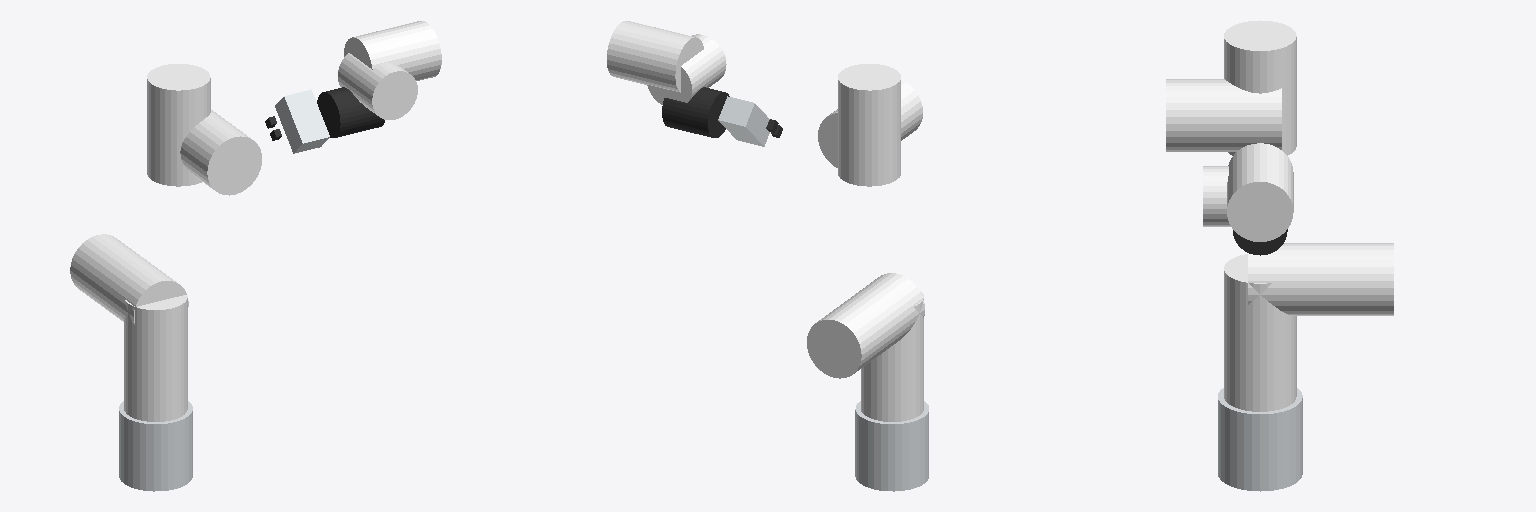
robot.urdf — panda:
<?xml version="1.0"?>
<!--
  Franka Emika Panda, for Gazebo Harmonic.

  Provenance and intent
  ~~~~~~~~~~~~~~~~~~~~
  The kinematics here are taken from the MuJoCo model this project already
  validates, `mujoco/models/franka_emika_panda/panda.xml`, so the Gazebo robot
  has the same morphology as the reference robot rather than an approximation of
  it. The MJCF's body offsets and orientations map onto URDF as:

      MJCF body pos/quat        ->  URDF joint origin xyz/rpy
      link0  ""                 ->  panda_link0 (base)
      link1  0 0 0.333          ->  joint1
      link2  quat 1 -1 0 0       ->  joint2   (rotation of -90 deg about X)
      link3  0 -0.316 0         ->  joint3
      link4  0.0825 0 0         ->  joint4
      link5  -0.0825 0.384 0    ->  joint5
      link6  ""                 ->  joint6
      link7  0.088 0 0          ->  joint7
      hand   0 0 0.107          ->  hand_joint  (rpy 0 0 -pi/4)

  Geometry is primitive boxes and cylinders rather than the STL/OBJ meshes the
  MuJoCo model references. That is a deliberate, recorded trade: the meshes are
  large binary assets, Gazebo collision meshes and MuJoCo collision meshes
  differ subtly anyway, and a primitive box per link is both reproducible and
  reviewable. Every collision envelope below is a bounding volume for its link,
  not the link's exact hull, a difference that is called out rather than
  hidden, because collision response is one of the things a cross-simulator
  comparison can legitimately disagree about.

  Joint limits and inertias are copied from the MJCF so the two robots respond
  comparably under the same commands.
-->
<robot name="panda">

  <material name="off_white"><color rgba="0.90 0.92 0.93 1"/></material>
  <material name="white"><color rgba="1 1 1 1"/></material>
  <material name="black"><color rgba="0.25 0.25 0.25 1"/></material>

  <!-- ============================ base ============================ -->
  <link name="panda_link0">
    <inertial>
      <origin xyz="-0.041018 -0.00014 0.049974" rpy="0 0 0"/>
            <mass value="0.629769"/>
      <inertia ixx="0.00315" ixy="8.2904e-07" ixz="0.00015"
               iyy="0.00388" iyz="8.2299e-06" izz="0.004285"/>
</inertial>
    <collision>
      <origin xyz="0 0 0.05" rpy="0 0 0"/>
      <geometry><cylinder radius="0.07" length="0.14"/></geometry>
    </collision>
    <visual>
      <origin xyz="0 0 0.05" rpy="0 0 0"/>
      <geometry><cylinder radius="0.07" length="0.14"/></geometry>
      <material name="off_white"/>
    </visual>
  </link>

  <!-- =========================== joint 1 ========================== -->
  <joint name="joint1" type="revolute">
    <parent link="panda_link0"/>
    <child link="panda_link1"/>
    <origin xyz="0 0 0.333" rpy="0 0 0"/>
    <axis xyz="0 0 1"/>
    <limit lower="-2.8973" upper="2.8973" effort="87" velocity="2.175"/>
    <dynamics damping="1.0" friction="0.0"/>
  </joint>
  <link name="panda_link1">
    <inertial>
      <origin xyz="0.003875 0.002081 -0.04762" rpy="0 0 0"/>
            <mass value="4.970684"/>
      <inertia ixx="0.70337" ixy="-0.000139" ixz="0.006772"
               iyy="0.70661" iyz="0.019169" izz="0.009117"/>
</inertial>
    <collision>
      <origin xyz="0 0 -0.1" rpy="0 0 0"/>
      <geometry><cylinder radius="0.06" length="0.24"/></geometry>
    </collision>
    <visual>
      <origin xyz="0 0 -0.1" rpy="0 0 0"/>
      <geometry><cylinder radius="0.06" length="0.24"/></geometry>
      <material name="white"/>
    </visual>
  </link>

  <!-- =========================== joint 2 ========================== -->
  <joint name="joint2" type="revolute">
    <parent link="panda_link1"/>
    <child link="panda_link2"/>
    <origin xyz="0 0 0" rpy="-1.5707963 0 0"/>
    <axis xyz="0 0 1"/>
    <limit lower="-1.7628" upper="1.7628" effort="87" velocity="2.175"/>
    <dynamics damping="1.0" friction="0.0"/>
  </joint>
  <link name="panda_link2">
    <inertial>
      <origin xyz="-0.003141 -0.02872 0.003495" rpy="0 0 0"/>
            <mass value="0.646926"/>
      <inertia ixx="0.007962" ixy="-0.003925" ixz="0.010254"
               iyy="0.02811" iyz="0.000704" izz="0.025995"/>
</inertial>
    <collision>
      <origin xyz="0 0 0.1" rpy="0 0 0"/>
      <geometry><cylinder radius="0.06" length="0.24"/></geometry>
    </collision>
    <visual>
      <origin xyz="0 0 0.1" rpy="0 0 0"/>
      <geometry><cylinder radius="0.06" length="0.24"/></geometry>
      <material name="white"/>
    </visual>
  </link>

  <!-- =========================== joint 3 ========================== -->
  <joint name="joint3" type="revolute">
    <parent link="panda_link2"/>
    <child link="panda_link3"/>
    <origin xyz="0 -0.316 0" rpy="1.5707963 0 0"/>
    <axis xyz="0 0 1"/>
    <limit lower="-2.8973" upper="2.8973" effort="87" velocity="2.175"/>
    <dynamics damping="1.0" friction="0.0"/>
  </joint>
  <link name="panda_link3">
    <inertial>
      <origin xyz="0.027518 0.039252 -0.066502" rpy="0 0 0"/>
            <mass value="3.228604"/>
      <inertia ixx="0.037242" ixy="-0.004761" ixz="-0.011396"
               iyy="0.036155" iyz="-0.012805" izz="0.01083"/>
</inertial>
    <collision>
      <origin xyz="0.05 0 0.05" rpy="0 0 0"/>
      <geometry><cylinder radius="0.06" length="0.2"/></geometry>
    </collision>
    <visual>
      <origin xyz="0.05 0 0.05" rpy="0 0 0"/>
      <geometry><cylinder radius="0.06" length="0.2"/></geometry>
      <material name="white"/>
    </visual>
  </link>

  <!-- =========================== joint 4 ========================== -->
  <joint name="joint4" type="revolute">
    <parent link="panda_link3"/>
    <child link="panda_link4"/>
    <origin xyz="0.0825 0 0" rpy="1.5707963 0 0"/>
    <axis xyz="0 0 1"/>
    <limit lower="-3.0718" upper="-0.0698" effort="87" velocity="2.175"/>
    <dynamics damping="1.0" friction="0.0"/>
  </joint>
  <link name="panda_link4">
    <inertial>
      <origin xyz="-0.05317 0.104419 0.027454" rpy="0 0 0"/>
            <mass value="3.587895"/>
      <inertia ixx="0.025853" ixy="0.007796" ixz="-0.001332"
               iyy="0.019552" iyz="0.008641" izz="0.028323"/>
</inertial>
    <collision>
      <origin xyz="-0.02 0 0.06" rpy="0 0 0"/>
      <geometry><cylinder radius="0.06" length="0.19"/></geometry>
    </collision>
    <visual>
      <origin xyz="-0.02 0 0.06" rpy="0 0 0"/>
      <geometry><cylinder radius="0.06" length="0.19"/></geometry>
      <material name="white"/>
    </visual>
  </link>

  <!-- =========================== joint 5 ========================== -->
  <joint name="joint5" type="revolute">
    <parent link="panda_link4"/>
    <child link="panda_link5"/>
    <origin xyz="-0.0825 0.384 0" rpy="-1.5707963 0 0"/>
    <axis xyz="0 0 1"/>
    <limit lower="-2.8973" upper="2.8973" effort="12" velocity="2.61"/>
    <dynamics damping="1.0" friction="0.0"/>
  </joint>
  <link name="panda_link5">
    <inertial>
      <origin xyz="-0.011953 0.041065 -0.038437" rpy="0 0 0"/>
            <mass value="1.225946"/>
      <inertia ixx="0.035549" ixy="-0.002117" ixz="-0.004037"
               iyy="0.029474" iyz="0.000229" izz="0.008627"/>
</inertial>
    <collision>
      <origin xyz="0 0 0.05" rpy="0 0 0"/>
      <geometry><cylinder radius="0.055" length="0.15"/></geometry>
    </collision>
    <visual>
      <origin xyz="0 0 0.05" rpy="0 0 0"/>
      <geometry><cylinder radius="0.055" length="0.15"/></geometry>
      <material name="white"/>
    </visual>
  </link>

  <!-- =========================== joint 6 ========================== -->
  <joint name="joint6" type="revolute">
    <parent link="panda_link5"/>
    <child link="panda_link6"/>
    <origin xyz="0 0 0" rpy="1.5707963 0 0"/>
    <axis xyz="0 0 1"/>
    <limit lower="-0.0175" upper="3.7525" effort="12" velocity="2.61"/>
    <dynamics damping="1.0" friction="0.0"/>
  </joint>
  <link name="panda_link6">
    <inertial>
      <origin xyz="0.060149 -0.014117 -0.010517" rpy="0 0 0"/>
            <mass value="1.666555"/>
      <inertia ixx="0.001964" ixy="0.000109" ixz="-0.001158"
               iyy="0.004354" iyz="0.000341" izz="0.005433"/>
</inertial>
    <collision>
      <origin xyz="0.03 0 0.03" rpy="0 0 0"/>
      <geometry><cylinder radius="0.05" length="0.13"/></geometry>
    </collision>
    <visual>
      <origin xyz="0.03 0 0.03" rpy="0 0 0"/>
      <geometry><cylinder radius="0.05" length="0.13"/></geometry>
      <material name="white"/>
    </visual>
  </link>

  <!-- =========================== joint 7 ========================== -->
  <joint name="joint7" type="revolute">
    <parent link="panda_link6"/>
    <child link="panda_link7"/>
    <origin xyz="0.088 0 0" rpy="1.5707963 0 0"/>
    <axis xyz="0 0 1"/>
    <limit lower="-2.8973" upper="2.8973" effort="12" velocity="2.61"/>
    <dynamics damping="1.0" friction="0.0"/>
  </joint>
  <link name="panda_link7">
    <inertial>
      <origin xyz="0.010517 -0.004252 0.061597" rpy="0 0 0"/>
            <mass value="0.735522"/>
      <inertia ixx="0.012516" ixy="-0.000428" ixz="-0.001196"
               iyy="0.010027" iyz="-0.000741" izz="0.004815"/>
</inertial>
    <collision>
      <origin xyz="0 0 0.04" rpy="0 0 0"/>
      <geometry><cylinder radius="0.045" length="0.1"/></geometry>
    </collision>
    <visual>
      <origin xyz="0 0 0.04" rpy="0 0 0"/>
      <geometry><cylinder radius="0.045" length="0.1"/></geometry>
      <material name="black"/>
    </visual>
  </link>

  <!-- ============================= hand ============================ -->
  <joint name="hand_joint" type="fixed">
    <parent link="panda_link7"/>
    <child link="panda_hand"/>
    <origin xyz="0 0 0.107" rpy="0 0 -0.7853982"/>
  </joint>
  <link name="panda_hand">
    <inertial>
      <origin xyz="-0.01 0 0.03" rpy="0 0 0"/>
            <mass value="0.73"/>
      <inertia ixx="0.001" ixy="0" ixz="0"
               iyy="0.0025" iyz="0" izz="0.0017"/>
</inertial>
    <collision>
      <origin xyz="0 0 0.04" rpy="0 0 0"/>
      <geometry><box size="0.05 0.1 0.06"/></geometry>
    </collision>
    <visual>
      <origin xyz="0 0 0.04" rpy="0 0 0"/>
      <geometry><box size="0.05 0.1 0.06"/></geometry>
      <material name="off_white"/>
    </visual>
  </link>

  <!-- Parallel jaw: two prismatic fingers, mirroring the MJCF's slide joints
       with range 0..0.04 along +Y.

       Geometry is measured from the compiled MJCF, not drawn by eye, and is
       expressed so the gripper is *symmetric by construction*. Each finger
       joint's origin sits at the pad's inner face
       (y = +/-0.0055, z = 0.0445): closing the joint to q narrows the pad
       separation by exactly 2q, so closed separation + commanded aperture is
       the true pad separation with no hidden asymmetry. The pads themselves sit
       0.0584 along the finger bodies to land their centres at hand-frame
       z = 0.0445 + 0.0584 = 0.1029, which is 0.5 mm behind the injected "tcp"
       site at 0.1034, and each collision box is 0.02 x 0.015 x 0.015, giving a
       closed separation of 2 * 0.0055 = 0.011 m, the value RobotConfig derives
       from gripper_closed_separation_m.

       The pad half-height is 6.5 mm here, NOT RobotConfig's measured 8.5 mm,
       and that is a deliberate, measured Gazebo-only difference, driven by
       contact evidence rather than by preference.

       The contact sensors say what is actually touching. Over a full episode
       the cube was in contact with the table on all 149 ticks and with a finger
       on none, while both pads were in contact with the TABLE on every tick:
       the jaws were closing on the tabletop and missing the object entirely.
       That also explains the finger residual that no gain change removed, and the
       pads were pressed against the table and physically could not close.

       The clearance that follows from the shared task's aim is
       ``object_half + pad_offset_from_tcp - pad_half_height``. The arm settles
       about 1.4 mm below the commanded tool height under load, and ODE reports
       contact at a clearance of 0.1 mm, so the clearance has to exceed the
       measured sag with room to spare. At 6.5 mm it is 2.0 mm nominally and
       0.6 mm even at the worst observed sag. 13 mm tall pads still span 13 mm of
       a 16 mm cube, gripping it about its middle.

       An earlier revision used 7.5 mm (1.0 mm of nominal clearance) on the
       reasoning that the aim alone should suffice. The contact evidence says
       it does not, and the contacts are what the number is now derived from. The task aims
       the tool centre point at the object's centre, so the pads' lower edge
       lands at object_centre + 0.0005 - pad_half_height. With an 8 mm half-object
       resting on the table, an 8.5 mm pad puts the lower edge 0.5 mm *below* the
       tabletop, and the live trace measured the arm settling 0.4 mm low on top
       of that, so the lowest the pads ever reached was +0.03 mm. Thirty
       microns of clearance is inside ODE's contact margin: the pads graze the
       table, the fingers jam against it (measured: 3.2 mm of residual with about
       7 N commanded and no motion at all), and the lift rakes the cube out of
       the jaws instead of carrying it. MuJoCo's solver tolerates the same
       overlap, which is why the shared task allows it: its own feasibility test
       is pad_bottom >= table_z - 0.001.
       At 7.5 mm the pads clear the table by 1.03 mm and still span 15 mm of a
       16 mm cube's height, so the grip loses only the top millimetre.

       The previous geometry put the pad centre at z = 0.0834 with a 50 mm tall
       box and made the two jaws asymmetric (inner faces at y = +0.0025 and
       -0.0125, so the midpoint sat 5 mm off the hand axis and prismatic travel
       moved each face twice as far as the jaw's own model claims). Both are
       corrected here; tests/unit/test_gazebo_backend.py pins the corrected
       values against the config so they cannot drift apart again. -->
  <joint name="left_finger" type="prismatic">
    <parent link="panda_hand"/>
    <child link="panda_left_finger"/>
    <origin xyz="0 0.0055 0.0445" rpy="0 0 0"/>
    <axis xyz="0 1 0"/>
    <limit lower="0.0" upper="0.04" effort="100" velocity="0.2"/>
    <dynamics damping="1.0"/>
  </joint>
  <link name="panda_left_finger">
    <inertial>
      <origin xyz="0 0.0075 0.0584" rpy="0 0 0"/>
            <mass value="0.015"/>
      <inertia ixx="1.559e-06" ixy="0" ixz="0"
               iyy="1.336e-06" iyz="0" izz="9.543e-07"/>
</inertial>
    <collision>
      <origin xyz="0 0.0075 0.0584" rpy="0 0 0"/>
      <geometry><box size="0.02 0.015 0.013"/></geometry>
    </collision>
    <visual>
      <origin xyz="0 0.0075 0.0584" rpy="0 0 0"/>
      <geometry><box size="0.02 0.015 0.013"/></geometry>
      <material name="black"/>
    </visual>
  </link>

  <joint name="right_finger" type="prismatic">
    <parent link="panda_hand"/>
    <child link="panda_right_finger"/>
    <origin xyz="0 -0.0055 0.0445" rpy="0 0 0"/>
    <axis xyz="0 -1 0"/>
    <limit lower="0.0" upper="0.04" effort="100" velocity="0.2"/>
    <dynamics damping="1.0"/>
  </joint>
  <link name="panda_right_finger">
    <inertial>
      <origin xyz="0 -0.0075 0.0584" rpy="0 0 0"/>
            <mass value="0.015"/>
      <inertia ixx="1.559e-06" ixy="0" ixz="0"
               iyy="1.336e-06" iyz="0" izz="9.543e-07"/>
</inertial>
    <collision>
      <origin xyz="0 -0.0075 0.0584" rpy="0 0 0"/>
      <geometry><box size="0.02 0.015 0.013"/></geometry>
    </collision>
    <visual>
      <origin xyz="0 -0.0075 0.0584" rpy="0 0 0"/>
      <geometry><box size="0.02 0.015 0.013"/></geometry>
      <material name="black"/>
    </visual>
  </link>

  <!--
    Gazebo systems. The position controller must be attached to a *model*
    entity: placed in the world it refuses to initialise with "should be
    attached to a model entity". Attaching it here is also what makes the
    controller travel with the robot if the world ever includes it by name.

    Joint names are ROBOT CI's own (joint1..joint7), so the control path needs
    no name translation.
  -->


</robot>

--- Render facts (derived) ---
3 views of the same robot in one strip: view 1: azimuth 30°, elevation 25°; view 2: azimuth 150°, elevation 25°; view 3: azimuth 270°, elevation 25° (orthographic).
Robot: panda — 11 links, 10 joints (7 revolute, 2 prismatic, 1 fixed); root link panda_link0; default pose: joints at zero except 1 at the middle of their limits (joint4 = -1.57).
Visible links, largest first — view 1: panda_link1, panda_link3, panda_link2, panda_link0, panda_link4, panda_link5, panda_link6, panda_hand, panda_link7; view 2: panda_link3, panda_link2, panda_link0, panda_link1, panda_link5, panda_link7, panda_link6, panda_link4, panda_hand; view 3: panda_link2, panda_link1, panda_link4, panda_link0, panda_link3, panda_link5, panda_link6, panda_link7.
Boxes of the visible links, left/top/right/bottom form: panda_link1: left=124, top=295, right=187, bottom=421; panda_link3: left=147, top=64, right=210, bottom=186; panda_link2: left=70, top=234, right=188, bottom=324; panda_link0: left=119, top=401, right=192, bottom=491; panda_link4: left=180, top=110, right=261, bottom=195; panda_link5: left=344, top=21, right=441, bottom=80; panda_link6: left=338, top=53, right=417, bottom=119; panda_hand: left=275, top=89, right=329, bottom=153; panda_link7: left=317, top=87, right=384, bottom=137; panda_link3: left=838, top=64, right=900, bottom=186; panda_link2: left=807, top=273, right=924, bottom=378; panda_link0: left=855, top=401, right=928, bottom=491; panda_link1: left=861, top=291, right=923, bottom=421; panda_link5: left=607, top=21, right=703, bottom=92; panda_link7: left=662, top=87, right=729, bottom=137; panda_link6: left=647, top=34, right=726, bottom=104; panda_link4: left=818, top=79, right=922, bottom=167; panda_hand: left=718, top=96, right=769, bottom=146; panda_link2: left=1248, top=243, right=1393, bottom=315; panda_link1: left=1224, top=254, right=1296, bottom=411; panda_link4: left=1166, top=79, right=1281, bottom=151; panda_link0: left=1218, top=388, right=1302, bottom=491; panda_link3: left=1224, top=20, right=1296, bottom=155; panda_link5: left=1227, top=143, right=1293, bottom=241; panda_link6: left=1203, top=166, right=1230, bottom=226; panda_link7: left=1233, top=229, right=1287, bottom=255.
Size in the robot's own frame: 0.6615 by 0.375 by 0.819 metres.
Geometry: primitives only (box / cylinder / sphere), no mesh files.
